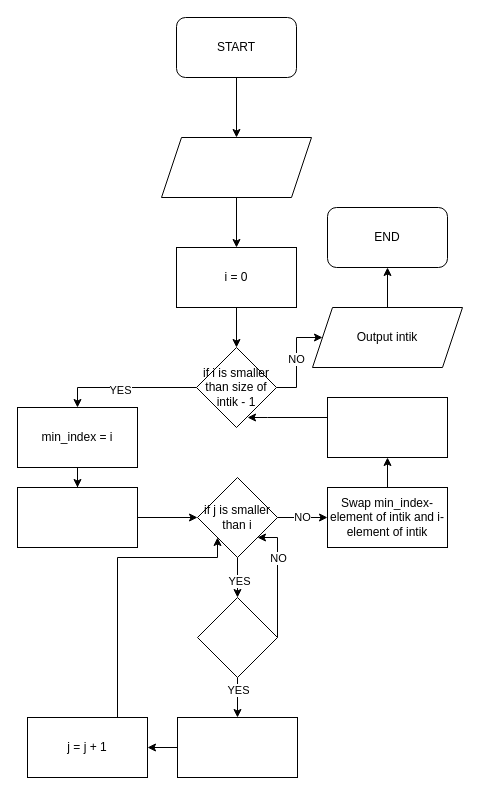
Some shapes in this 480 by 795 pixel diagram are drawn without their labels. Here are the shapes that lost their labels. From the top down, the centre of each, then its label:
At pixel 236 167: "Input value into intik".
At pixel 387 427: "i = i +1".
At pixel 77 517: "j = i + 1".
At pixel 237 637: "if j-element of intik is smaller than min_index-element of intik".
At pixel 237 747: "min_index = j".
